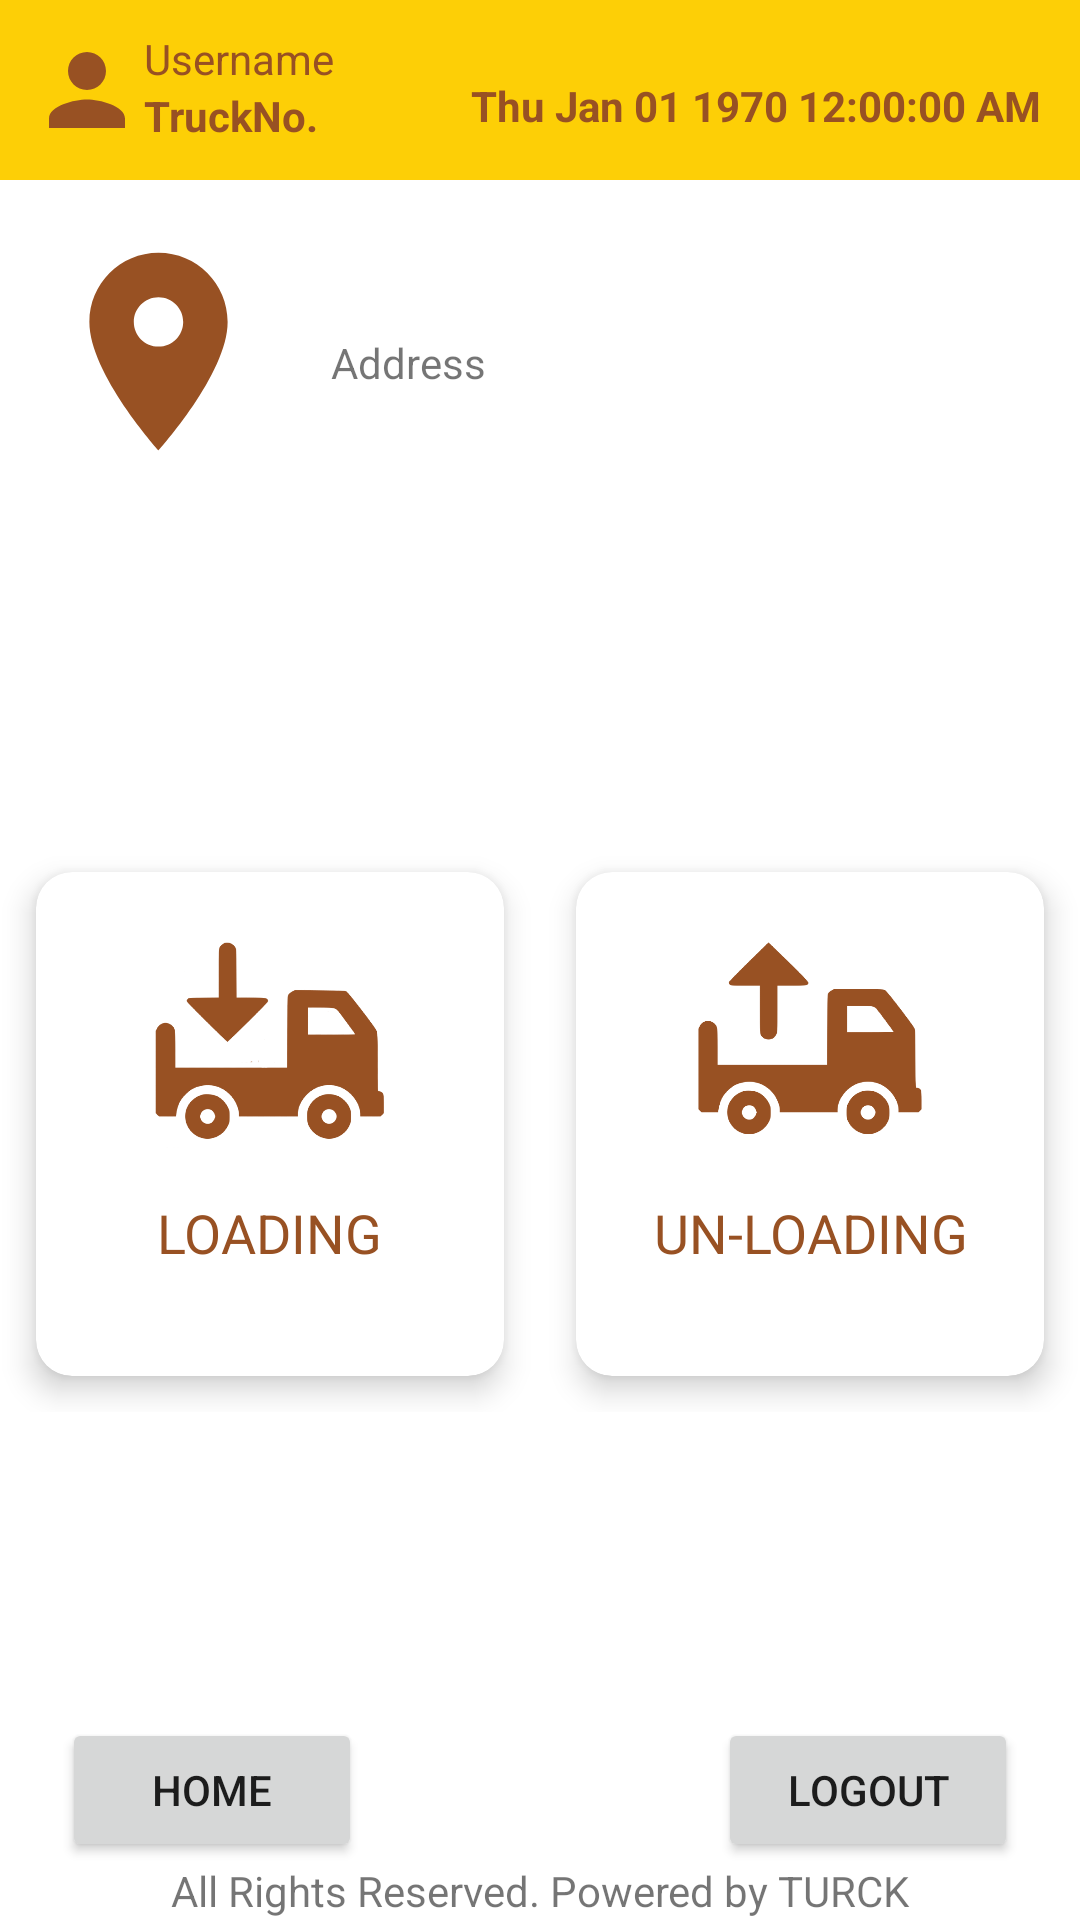

Point at icon controls on the screen. Image size 1080 x 1920, points as [x,y].
location on: [158,351]
person: [87,90]
